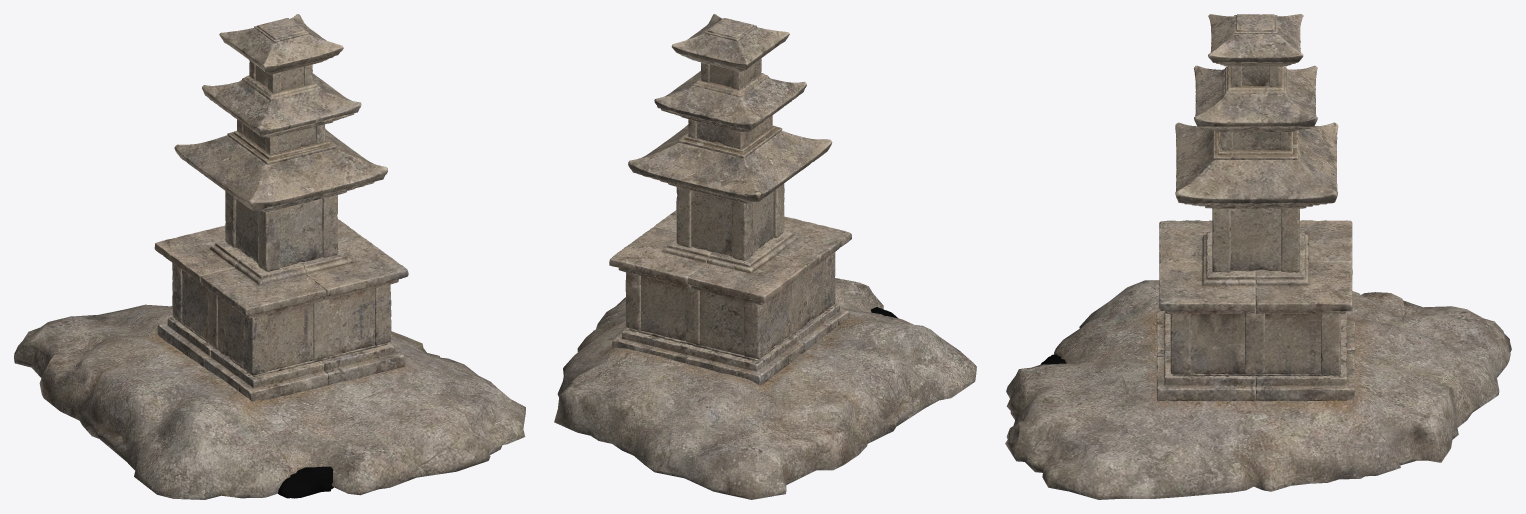
Rendered from yongjang.glb.
3 views of the same model, side by side, from view 1: azimuth 30°, elevation 25°; view 2: azimuth 150°, elevation 25°; view 3: azimuth 270°, elevation 25° (orthographic). The views are drawn at different scales.
Visible parts, largest first — view 1: SM_ShillaNamsanTower_01_Tower_ShillaNamsanTower_01_0, SM_ShillaNamsanTower_01_Stone_ShillaNamsanTower_01_0; view 2: SM_ShillaNamsanTower_01_Tower_ShillaNamsanTower_01_0, SM_ShillaNamsanTower_01_Stone_ShillaNamsanTower_01_0; view 3: SM_ShillaNamsanTower_01_Stone_ShillaNamsanTower_01_0, SM_ShillaNamsanTower_01_Tower_ShillaNamsanTower_01_0.
Part boxes in pixels (x1=…): SM_ShillaNamsanTower_01_Tower_ShillaNamsanTower_01_0: x1=154, y1=14, x2=408, y2=401; SM_ShillaNamsanTower_01_Stone_ShillaNamsanTower_01_0: x1=14, y1=304, x2=525, y2=499; SM_ShillaNamsanTower_01_Tower_ShillaNamsanTower_01_0: x1=609, y1=14, x2=851, y2=385; SM_ShillaNamsanTower_01_Stone_ShillaNamsanTower_01_0: x1=554, y1=278, x2=976, y2=499; SM_ShillaNamsanTower_01_Stone_ShillaNamsanTower_01_0: x1=1005, y1=280, x2=1511, y2=499; SM_ShillaNamsanTower_01_Tower_ShillaNamsanTower_01_0: x1=1156, y1=14, x2=1354, y2=401.
Bounding box in the file's own units: 5.19 × 5.13 × 6.
Materials: 2 (2 with a texture image).
